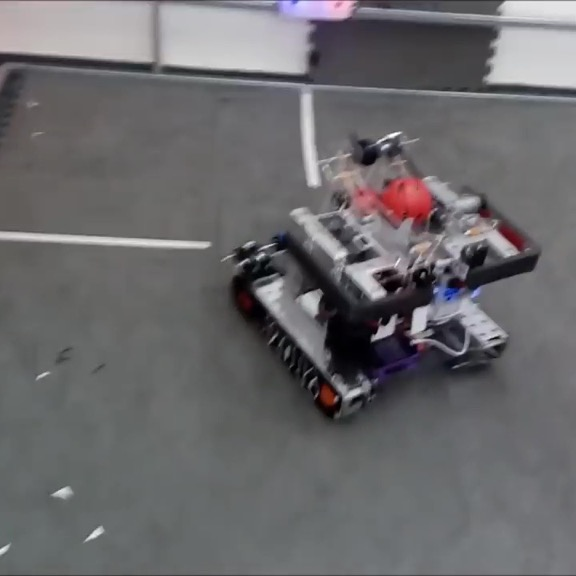ball: (380, 174, 434, 227)
robot: (219, 125, 550, 427)
